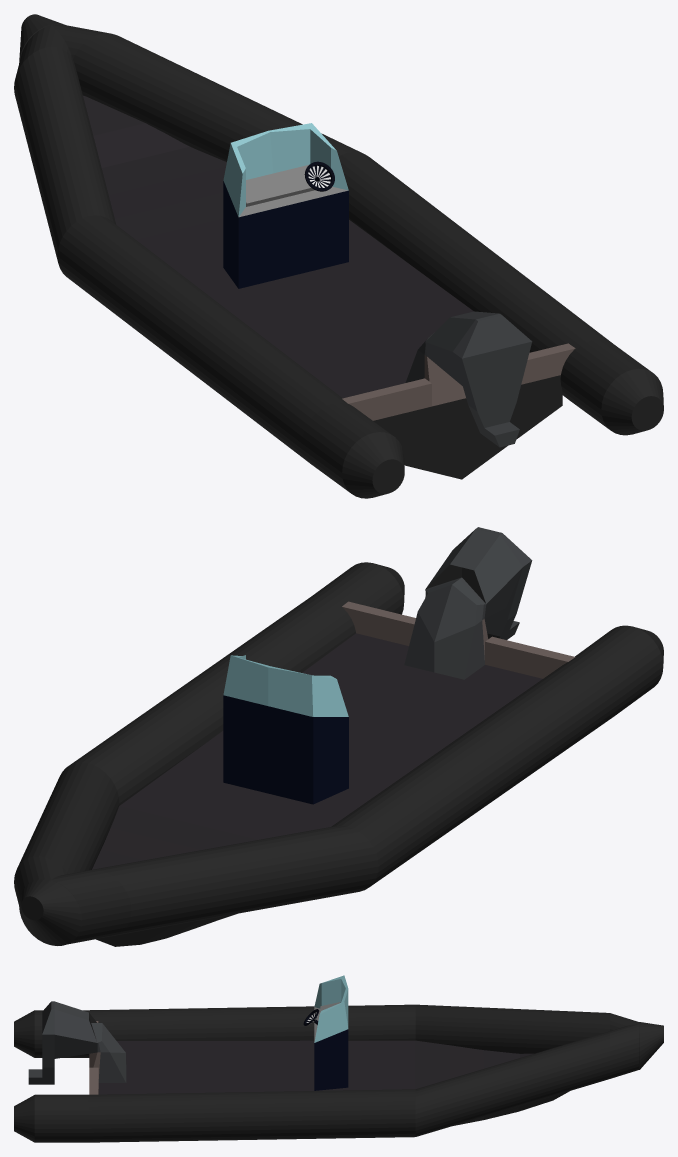
File: LowPolyPonton_JAM23.fbx
3 views of the same model, one above another, from view 1: azimuth 30°, elevation 25°; view 2: azimuth 150°, elevation 25°; view 3: azimuth 270°, elevation 25° (orthographic). The views are drawn at different scales.
Visible parts, largest first — view 1: Balony, Skorupa, Koziol, Kierownica; view 2: Balony, Skorupa, Koziol; view 3: Balony, Skorupa, Koziol.
Part boxes in pixels (<box>): Balony: <box>14,14,663,498</box>; Skorupa: <box>83,96,575,479</box>; Koziol: <box>223,123,348,288</box>; Kierownica: <box>304,161,334,191</box>; Balony: <box>14,562,663,945</box>; Skorupa: <box>92,527,575,946</box>; Koziol: <box>223,655,348,804</box>; Balony: <box>14,1004,663,1142</box>; Skorupa: <box>28,1001,569,1125</box>; Koziol: <box>314,975,348,1090</box>.
Bounding box in the file's own units: 2.62 × 1.62 × 6.87.
